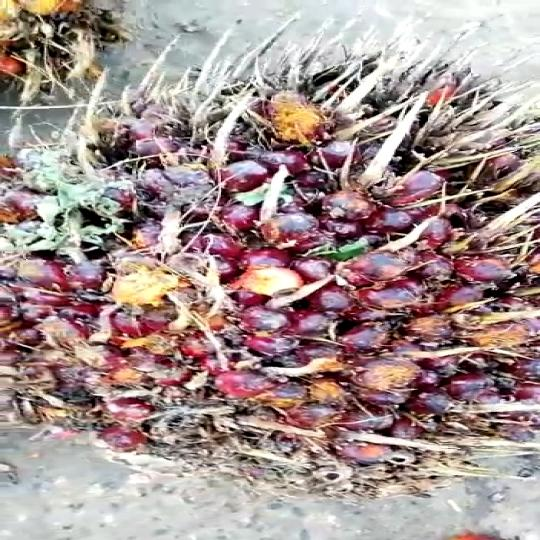masak: (0, 40, 540, 502)
